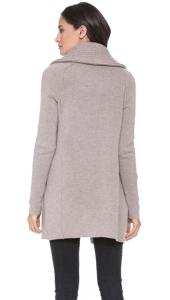S_cardigan sweater: (23, 50, 149, 249)
